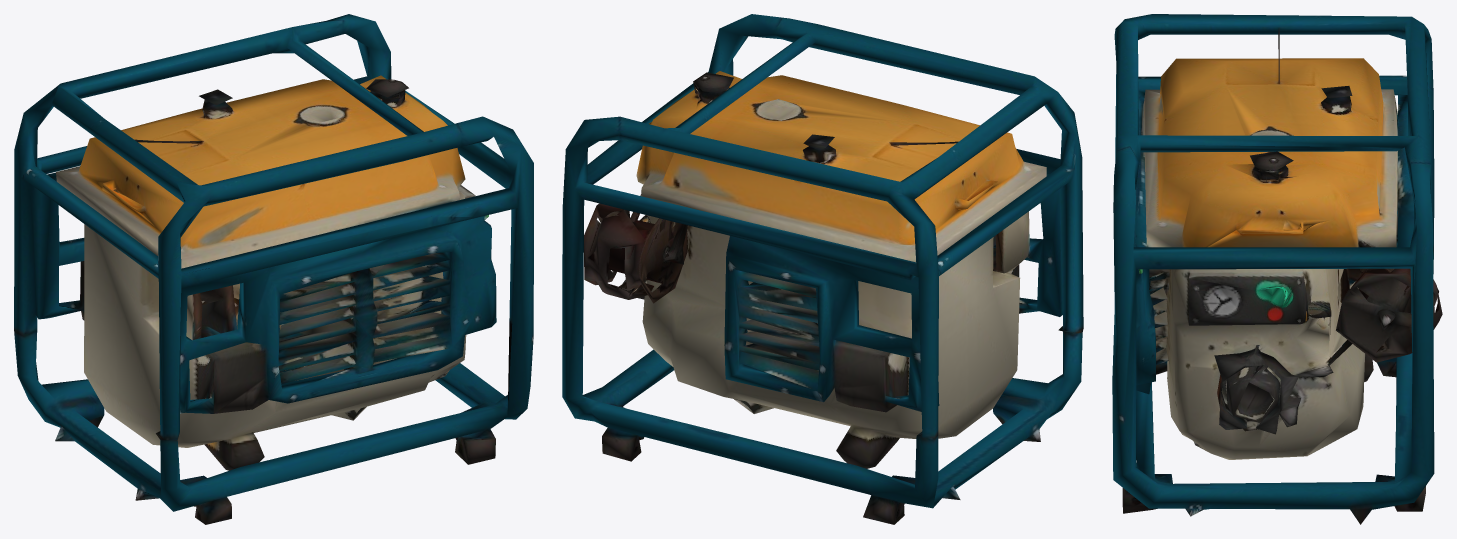
File: mall_generator_3000.glb
3 views of the same model, side by side, from view 1: azimuth 30°, elevation 25°; view 2: azimuth 150°, elevation 25°; view 3: azimuth 270°, elevation 25° (orthographic). The views are drawn at different scales.
Parts seen in each view (by area): view 1: tripo_node_f70fd5ed-591d-456a-a186-bd4d1ccbfeb8; view 2: tripo_node_f70fd5ed-591d-456a-a186-bd4d1ccbfeb8; view 3: tripo_node_f70fd5ed-591d-456a-a186-bd4d1ccbfeb8.
Boxes of the visible parts, x1,y1,x2,y2 form: tripo_node_f70fd5ed-591d-456a-a186-bd4d1ccbfeb8: (14, 14, 533, 524); tripo_node_f70fd5ed-591d-456a-a186-bd4d1ccbfeb8: (562, 14, 1083, 524); tripo_node_f70fd5ed-591d-456a-a186-bd4d1ccbfeb8: (1112, 14, 1442, 524).
Bounding box in the file's own units: 0.98 × 0.841 × 0.7202.
Materials: 1 (1 with a texture image).
